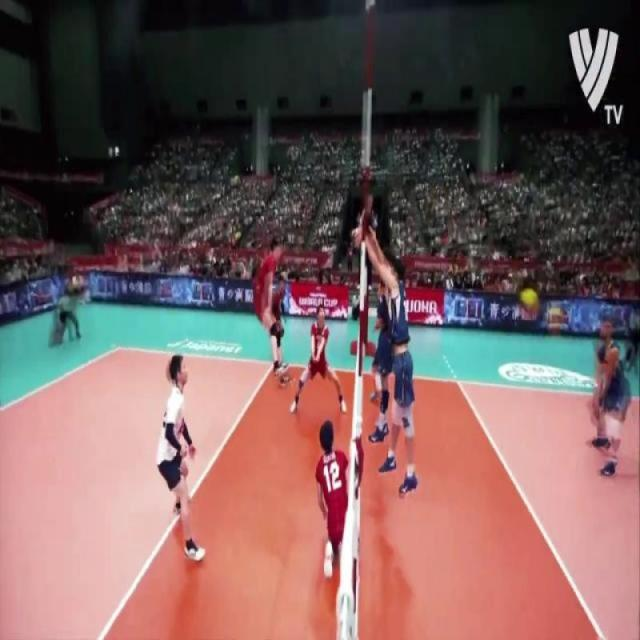volleyball: (515, 282, 543, 320)
